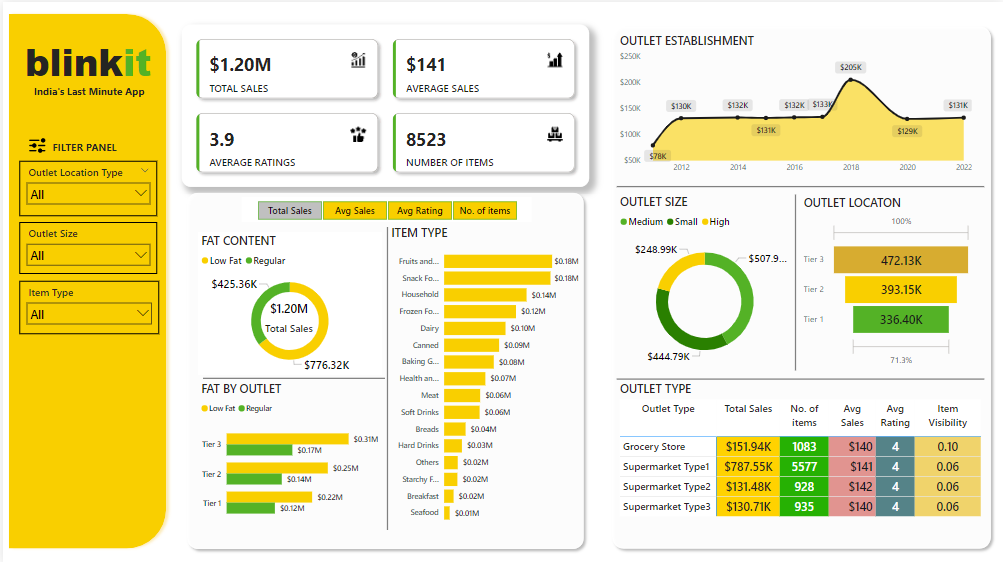

What the dashboard file says about the page in this screenshot:
{"tool":"powerbi","page":{"name":"Dashboard","canvas":[1600,900],"ordinal":0},"visuals":[{"type":"shape","box":[0,10,270,873.3],"z":0},{"type":"textbox","box":[30,48.6,232.9,95.7],"z":1000},{"type":"textbox","box":[44.3,125.7,205.7,37.1],"z":2000},{"type":"cardVisual","fields":{"Data":["BlinkIT Grocery Data.Total Sales","BlinkIT Grocery Data.Avg Sales","BlinkIT Grocery Data.Avg Rating","BlinkIT Grocery Data.Number of items"]},"box":[286,36,652,260],"z":3000},{"type":"shape","box":[286,296,652,588],"z":4000},{"type":"donutChart","title":"FAT CONTENT","fields":{"Y":["BlinkIT Grocery Data.Total Sales"],"Category":["BlinkIT Grocery Data.Item Fat Content"]},"box":[311.7,367.3,294.3,228.6],"z":5000},{"type":"slicer","fields":{"Values":["Metrics.Metrics"]},"box":[382,312,464,40],"z":6000},{"type":"card","fields":{"Values":["BlinkIT Grocery Data.Total Sales"]},"box":[406.7,456.7,103.3,95],"z":7000},{"type":"clusteredBarChart","title":"FAT BY OUTLET","fields":{"Y":["BlinkIT Grocery Data.Total Sales"],"Category":["BlinkIT Grocery Data.Outlet Location Type"],"Series":["BlinkIT Grocery Data.Item Fat Content"]},"box":[311.7,606.7,295,238.3],"z":8000},{"type":"shape","box":[320,580,291.4,44.3],"z":9000},{"type":"shape","box":[595,360,38.3,485],"z":10000},{"type":"barChart","title":"ITEM TYPE","fields":{"Y":["BlinkIT Grocery Data.Total Sales"],"Category":["BlinkIT Grocery Data.Item Type"]},"box":[615,356.7,310,488.3],"z":11000},{"type":"shape","box":[966.7,30,623.3,853.3],"z":12000},{"type":"lineChart","title":"OUTLET ESTABLISHMENT","fields":{"Category":["BlinkIT Grocery Data.Outlet Establishment Year"],"Y":["BlinkIT Grocery Data.Total Sales"]},"box":[981.7,48.3,573.3,235],"z":13000},{"type":"shape","box":[981.7,279,588.1,34.7],"z":14000},{"type":"donutChart","title":"OUTLET SIZE","fields":{"Y":["BlinkIT Grocery Data.Total Sales"],"Category":["BlinkIT Grocery Data.Outlet Size"]},"box":[981.7,306.1,282,289.5],"z":15000},{"type":"shape","box":[1248.3,308.3,40,281.7],"z":16000},{"type":"funnel","title":"OUTLET LOCATON","fields":{"Y":["Sum(BlinkIT Grocery Data.Sales)"],"Category":["BlinkIT Grocery Data.Outlet Location Type"]},"box":[1276.7,308.3,278.3,280],"z":17000},{"type":"shape","box":[981.7,585.1,588.1,34.7],"z":18000},{"type":"pivotTable","title":"OUTLET TYPE","fields":{"Rows":["BlinkIT Grocery Data.Outlet Type"],"Values":["BlinkIT Grocery Data.Total Sales","BlinkIT Grocery Data.No. of items","BlinkIT Grocery Data.Avg Sales","BlinkIT Grocery Data.Avg Rating","Avg(BlinkIT Grocery Data.Item Visibility)"]},"box":[981.7,606.7,588.3,238.3],"z":19000},{"type":"slicer","fields":{"Values":["BlinkIT Grocery Data.Outlet Location Type"]},"box":[26.1,253.1,220.9,89],"z":20000},{"type":"slicer","fields":{"Values":["BlinkIT Grocery Data.Outlet Size"]},"box":[26.1,351.2,220.9,82.8],"z":21000},{"type":"slicer","fields":{"Values":["BlinkIT Grocery Data.Item Type"]},"box":[26.1,446.3,223.9,85.9],"z":22000},{"type":"textbox","box":[74.2,215.7,123.7,37.7],"z":23000},{"type":"image","box":[36.5,206.6,37.7,46.7],"z":25000}]}

Visuals, with their boxes in screenshot pixels (x1, y1, x2, y2), scaled from the page's 1600x900 canvas onto the 1003x562 screenshot:
shape: BBox(0, 6, 169, 552)
textbox: BBox(19, 30, 165, 90)
textbox: BBox(28, 78, 157, 102)
cardVisual - BlinkIT Grocery Data.Total Sales x BlinkIT Grocery Data.Avg Sales: BBox(179, 22, 588, 185)
shape: BBox(179, 185, 588, 552)
"FAT CONTENT" donutChart: BBox(195, 229, 380, 372)
slicer - Metrics.Metrics: BBox(239, 195, 530, 220)
card - BlinkIT Grocery Data.Total Sales: BBox(255, 285, 320, 345)
"FAT BY OUTLET" clusteredBarChart: BBox(195, 379, 380, 528)
shape: BBox(201, 362, 383, 390)
shape: BBox(373, 225, 397, 528)
"ITEM TYPE" barChart: BBox(386, 223, 580, 528)
shape: BBox(606, 19, 997, 552)
"OUTLET ESTABLISHMENT" lineChart: BBox(615, 30, 975, 177)
shape: BBox(615, 174, 984, 196)
"OUTLET SIZE" donutChart: BBox(615, 191, 792, 372)
shape: BBox(783, 193, 808, 368)
"OUTLET LOCATON" funnel: BBox(800, 193, 975, 367)
shape: BBox(615, 365, 984, 387)
"OUTLET TYPE" pivotTable: BBox(615, 379, 984, 528)
slicer - BlinkIT Grocery Data.Outlet Location Type: BBox(16, 158, 155, 214)
slicer - BlinkIT Grocery Data.Outlet Size: BBox(16, 219, 155, 271)
slicer - BlinkIT Grocery Data.Item Type: BBox(16, 279, 157, 332)
textbox: BBox(47, 135, 124, 158)
image: BBox(23, 129, 47, 158)
